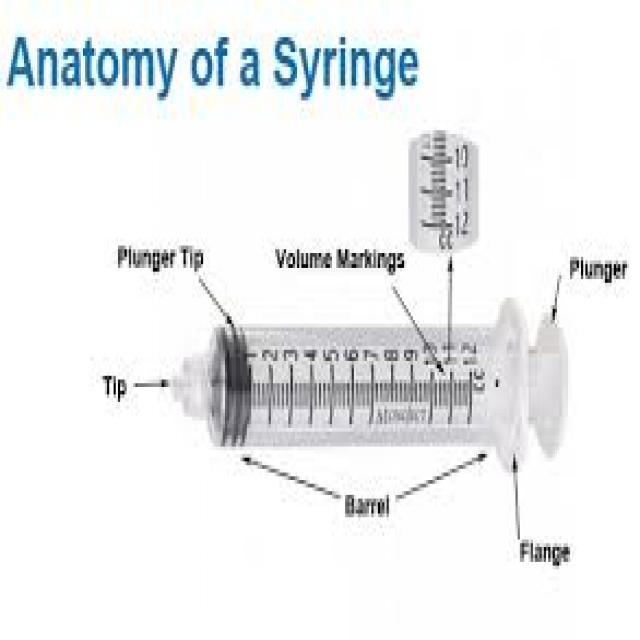syringe: (102, 297, 593, 506)
